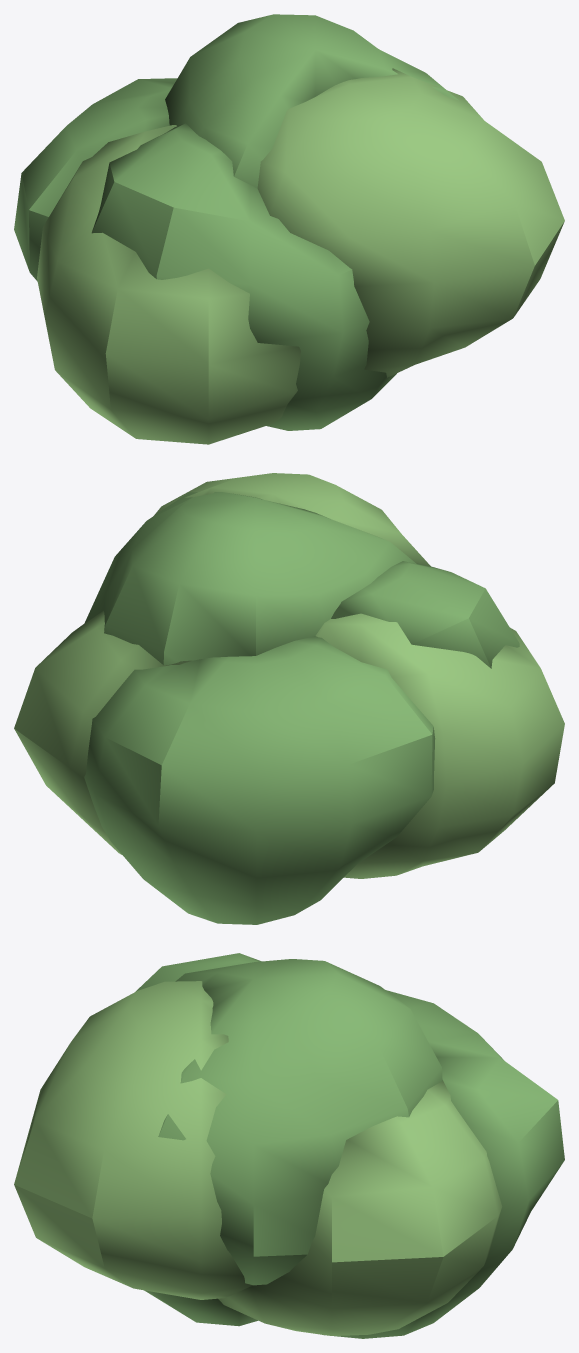
Rendered from bush.glb.
The picture shows the model from 3 angles, top to bottom: view 1: azimuth 30°, elevation 25°; view 2: azimuth 150°, elevation 25°; view 3: azimuth 270°, elevation 25°; orthographic projection. The views are drawn at different scales.
Visible parts, largest first — view 1: boat_leafB, boat_leafA; view 2: boat_leafA, boat_leafB; view 3: boat_leafB, boat_leafA.
Boxes of the visible parts, bbox=[...] form: boat_leafB: bbox=[37, 68, 564, 444]; boat_leafA: bbox=[14, 14, 458, 430]; boat_leafA: bbox=[84, 492, 519, 924]; boat_leafB: bbox=[14, 473, 564, 878]; boat_leafB: bbox=[14, 981, 502, 1335]; boat_leafA: bbox=[135, 953, 564, 1338].
Bounding box in the file's own units: 1.5 × 1.22 × 1.61.
